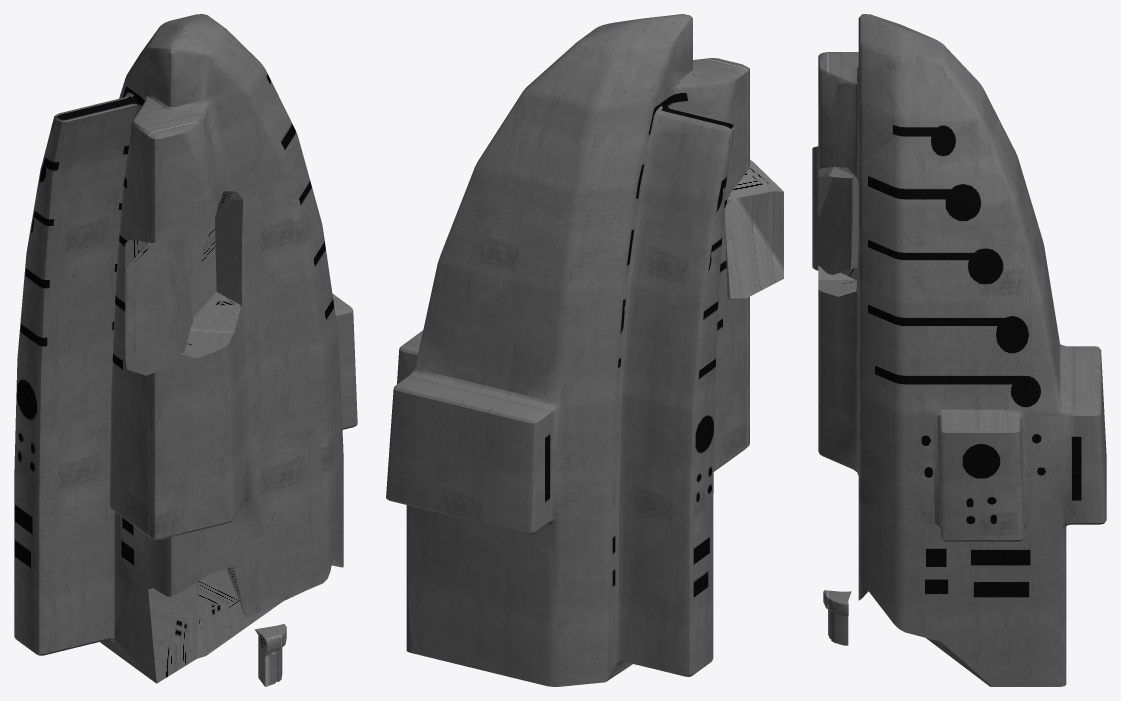
File: AndyGebouw1.0_Broken.fbx
3 views of the same model, side by side, from view 1: azimuth 30°, elevation 25°; view 2: azimuth 150°, elevation 25°; view 3: azimuth 270°, elevation 25° (orthographic). The views are drawn at different scales.
Visible parts, largest first — view 1: Cyber Skyscraper.015_cell.063, Cyber Skyscraper.015_cell.003, Cyber Skyscraper.015_cell.057, Cyber Skyscraper.015_cell.078, Cyber Skyscraper.015_cell.038, Cyber Skyscraper.015_cell.018, Cyber Skyscraper.015_cell.012, Cyber Skyscraper.015_cell.076, Cyber Skyscraper.015_cell.093, Cyber Skyscraper.015_cell.037, Cyber Skyscraper.015_cell.054, Cyber Skyscraper.015_cell.039 (+42 smaller); view 2: Cyber Skyscraper.015_cell.052, Cyber Skyscraper.015_cell.025, Cyber Skyscraper.015_cell.069, Cyber Skyscraper.015_cell.092, Cyber Skyscraper.015_cell.008, Cyber Skyscraper.015_cell.038, Cyber Skyscraper.015_cell.081, Cyber Skyscraper.015_cell.066, Cyber Skyscraper.015_cell.078, Cyber Skyscraper.015_cell.050, Cyber Skyscraper.015_cell.043, Cyber Skyscraper.015_cell.098 (+38 smaller); view 3: Cyber Skyscraper.015_cell.032, Cyber Skyscraper.015_cell.044, Cyber Skyscraper.015_cell.027, Cyber Skyscraper.015_cell.023, Cyber Skyscraper.015_cell.015, Cyber Skyscraper.015_cell.001, Cyber Skyscraper.015_cell.030, Cyber Skyscraper.015_cell.056, Cyber Skyscraper.015_cell.094, Cyber Skyscraper.015_cell.091, Cyber Skyscraper.015_cell.081, Cyber Skyscraper.015_cell.078 (+30 smaller).
Part boxes in pixels (bbox=[...]): Cyber Skyscraper.015_cell.063: bbox=[215, 193, 321, 323]; Cyber Skyscraper.015_cell.003: bbox=[190, 292, 308, 451]; Cyber Skyscraper.015_cell.057: bbox=[265, 402, 337, 558]; Cyber Skyscraper.015_cell.078: bbox=[125, 233, 193, 375]; Cyber Skyscraper.015_cell.038: bbox=[14, 421, 71, 572]; Cyber Skyscraper.015_cell.018: bbox=[61, 416, 122, 564]; Cyber Skyscraper.015_cell.012: bbox=[130, 469, 210, 596]; Cyber Skyscraper.015_cell.076: bbox=[105, 578, 198, 683]; Cyber Skyscraper.015_cell.093: bbox=[197, 450, 266, 573]; Cyber Skyscraper.015_cell.037: bbox=[185, 329, 240, 473]; Cyber Skyscraper.015_cell.054: bbox=[204, 83, 273, 191]; Cyber Skyscraper.015_cell.039: bbox=[141, 158, 218, 260]; Cyber Skyscraper.015_cell.052: bbox=[460, 464, 601, 607]; Cyber Skyscraper.015_cell.025: bbox=[500, 576, 663, 686]; Cyber Skyscraper.015_cell.069: bbox=[496, 227, 620, 360]; Cyber Skyscraper.015_cell.092: bbox=[386, 444, 479, 650]; Cyber Skyscraper.015_cell.008: bbox=[427, 323, 526, 485]; Cyber Skyscraper.015_cell.038: bbox=[635, 461, 713, 608]; Cyber Skyscraper.015_cell.081: bbox=[426, 191, 508, 332]; Cyber Skyscraper.015_cell.066: bbox=[494, 353, 566, 479]; Cyber Skyscraper.015_cell.078: bbox=[725, 160, 783, 299]; Cyber Skyscraper.015_cell.050: bbox=[562, 333, 615, 481]; Cyber Skyscraper.015_cell.043: bbox=[498, 123, 581, 236]; Cyber Skyscraper.015_cell.098: bbox=[613, 328, 656, 469]; Cyber Skyscraper.015_cell.032: bbox=[1006, 467, 1066, 686]; Cyber Skyscraper.015_cell.044: bbox=[869, 464, 940, 641]; Cyber Skyscraper.015_cell.027: bbox=[858, 346, 947, 469]; Cyber Skyscraper.015_cell.023: bbox=[920, 150, 1025, 260]; Cyber Skyscraper.015_cell.015: bbox=[936, 244, 1014, 365]; Cyber Skyscraper.015_cell.001: bbox=[945, 541, 1017, 685]; Cyber Skyscraper.015_cell.030: bbox=[937, 363, 1000, 485]; Cyber Skyscraper.015_cell.056: bbox=[858, 131, 928, 249]; Cyber Skyscraper.015_cell.094: bbox=[875, 248, 940, 355]; Cyber Skyscraper.015_cell.091: bbox=[1018, 348, 1077, 477]; Cyber Skyscraper.015_cell.081: bbox=[1006, 216, 1053, 361]; Cyber Skyscraper.015_cell.078: bbox=[812, 146, 858, 274].
Size of the model in its own units: 3292 by 6500 by 2946.
